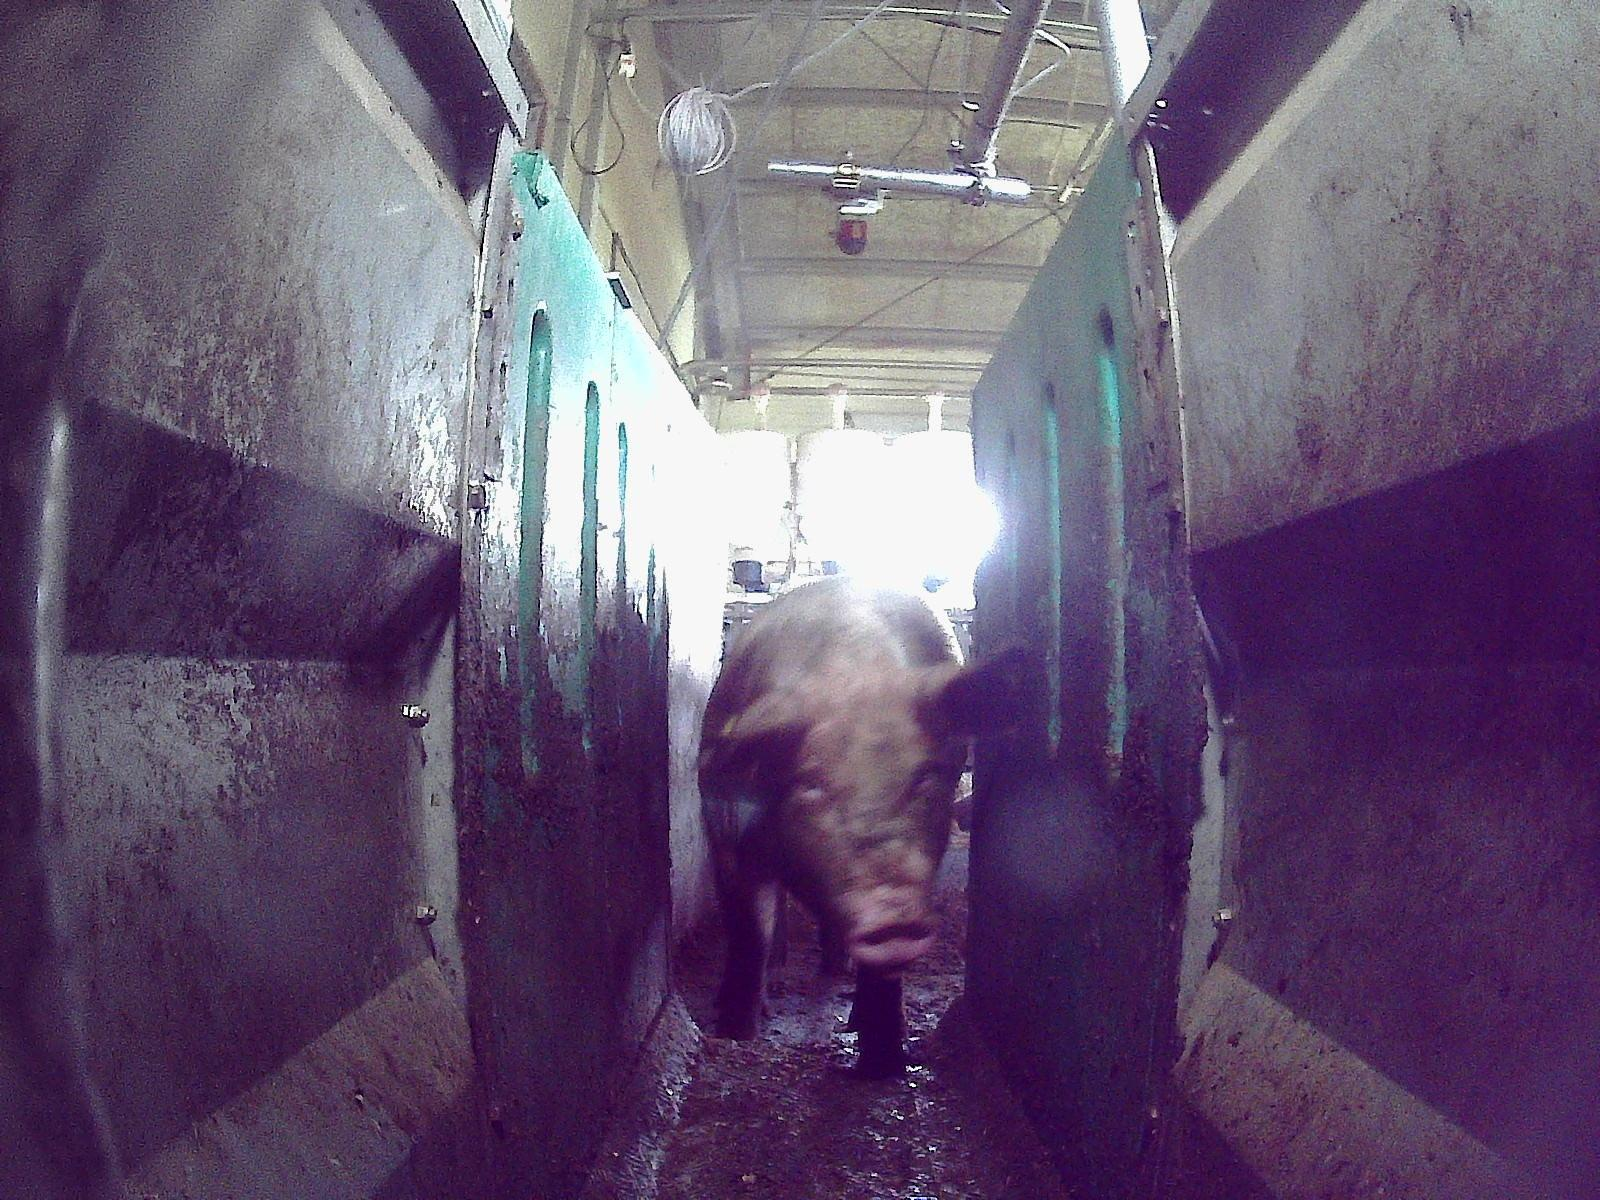Face: (773, 688, 953, 964)
